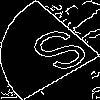S: (25, 25, 100, 82)
